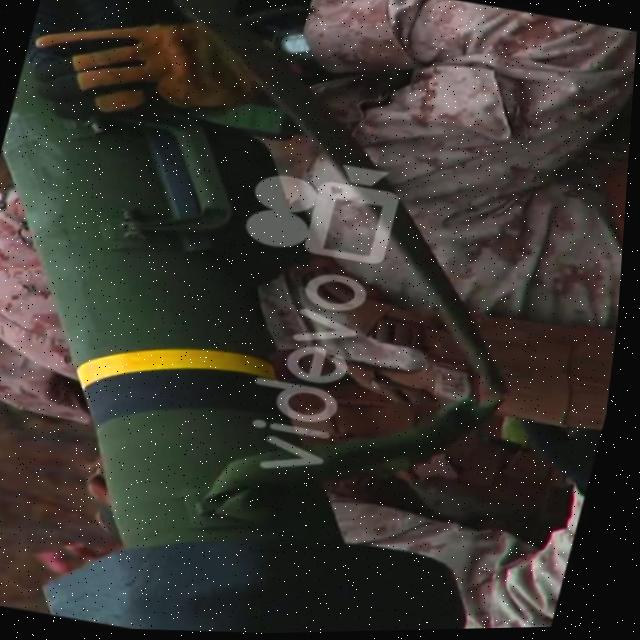rocket: (0, 71, 580, 640)
